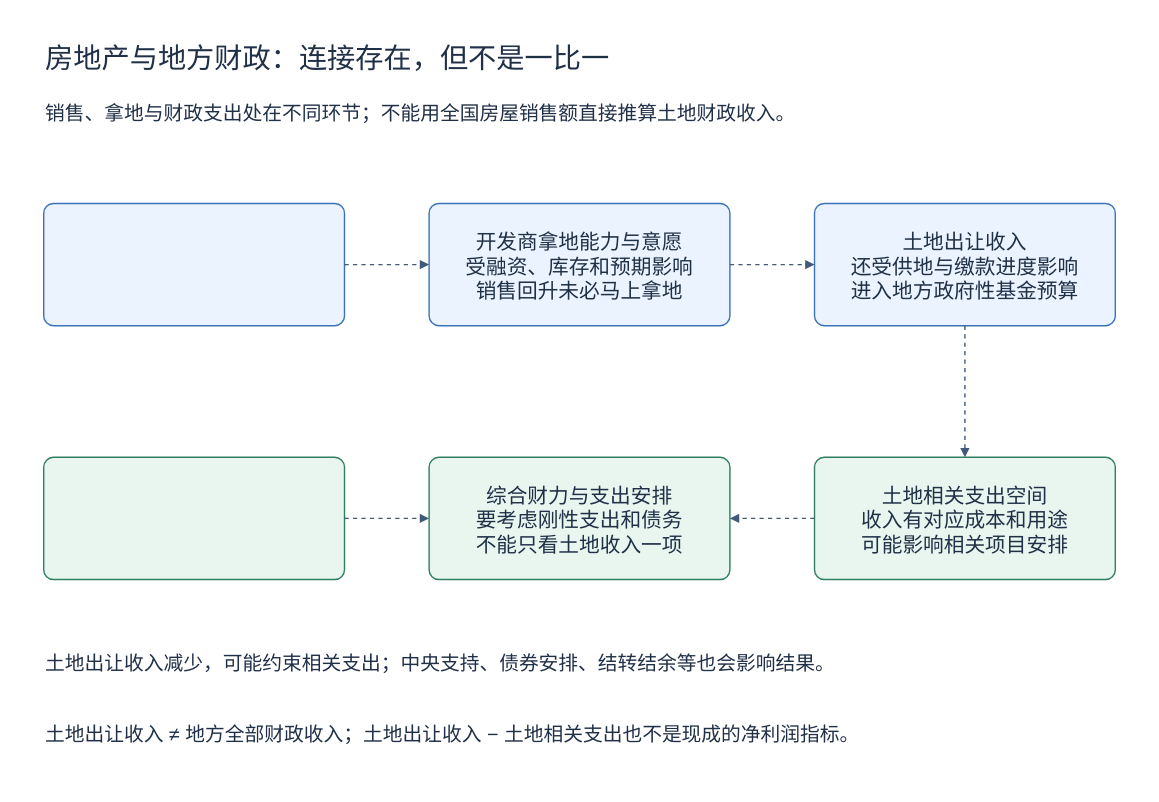
The diagram is 1159 pixels wide and 802 high, and some of its shapes have lost their labels. The shapes that lost their labels are listed below. From the top down, each one's centre as x and y in pixels, then its label:
(194,264): 住房销售与预期变化 开发商回款、库存变化 各城市与项目差异很大
(194,518): 税收及其他财政来源 房地产相关税收也会变化 地方还有转移支付等来源
